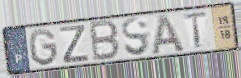A: (150, 12, 187, 57)
B: (88, 18, 121, 63)
G: (27, 27, 60, 68)
S: (120, 16, 152, 58)
T: (182, 10, 209, 50)
Z: (59, 24, 91, 65)
